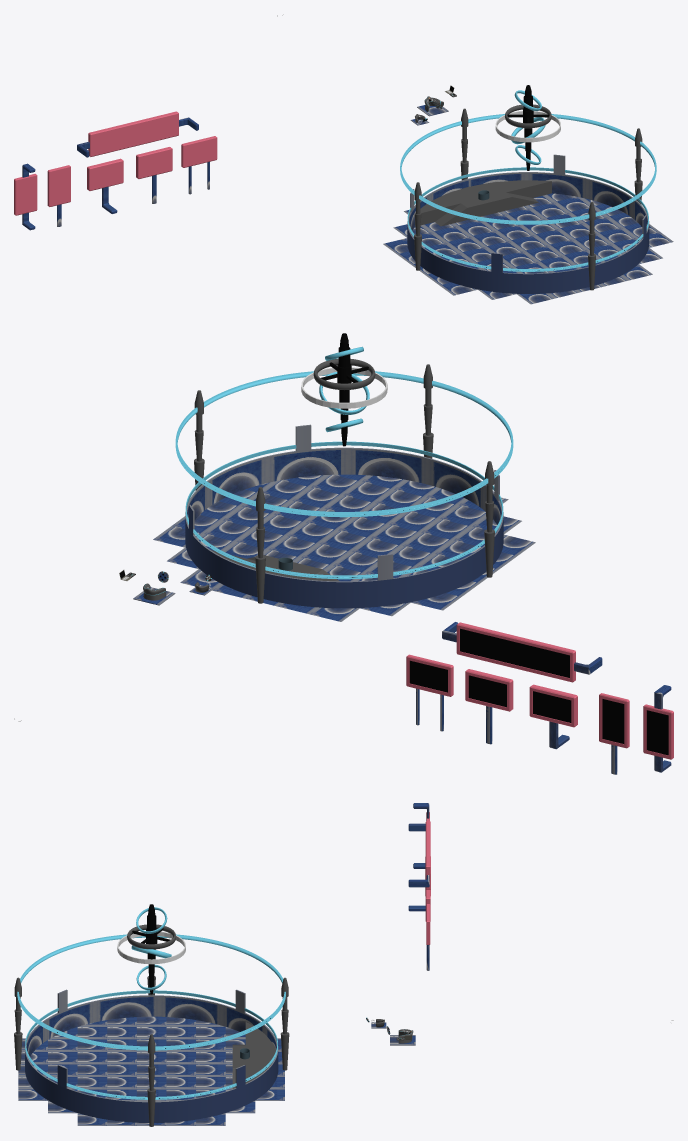
Rendered from Arena.fbx.
3 renders of one model, top to bottom at view 1: azimuth 30°, elevation 25°; view 2: azimuth 150°, elevation 25°; view 3: azimuth 270°, elevation 25°, orthographic. The views are drawn at different scales.
Parts seen in each view (by area): view 1: Circle.001, Cube, Cube.006, Circle.006, Circle.002, Cube.003, Cube.002, Cube.001, Cube.005, Cube.007, Cylinder.004, Circle.005 (+4 smaller); view 2: Circle.001, Circle.006, Circle.002, Cube.115, Cube.006, Cylinder.004, Circle.005, Cylinder.009, Cylinder.008, Cube.120, Cube.119, Cube.116 (+11 smaller); view 3: Circle.001, Circle.006, Circle.002, Cube, Cylinder.004, Circle.005, Cylinder.007, Cylinder.009, Cylinder.006, Torus.002.
Boxes of the visible parts, x1,y1,x2,y2 form: Circle.001: (407,154,649,293); Cube: (415,180,551,226); Cube.006: (88,111,178,156); Circle.006: (400,114,656,224); Circle.002: (407,167,648,271); Cube.003: (87,158,123,190); Cube.002: (136,147,172,178); Cube.001: (181,136,217,167); Cube.005: (47,165,70,206); Cube.007: (14,173,37,215); Cylinder.004: (507,85,549,170); Circle.005: (495,111,560,142); Circle.001: (185,424,503,608); Circle.006: (175,371,513,517); Circle.002: (185,441,503,579); Cube.115: (460,628,569,677); Cube.006: (456,622,575,682); Cylinder.004: (321,333,368,446); Circle.005: (301,367,387,408); Cylinder.009: (255,487,265,603); Cylinder.008: (484,461,494,577); Cube.120: (646,710,668,755); Cube.119: (602,699,624,743); Cube.116: (409,660,447,692); Circle.001: (25,989,278,1122); Circle.006: (17,934,285,1050); Circle.002: (25,990,277,1099); Cube: (232,1022,275,1088); Cylinder.004: (132,904,170,994); Circle.005: (117,931,185,964); Cylinder.007: (147,1034,155,1126); Cylinder.009: (280,977,289,1070); Cylinder.006: (14,977,22,1070); Torus.002: (127,924,176,949).
Bounding box in the file's own units: 16176 × 4901 × 17813.
